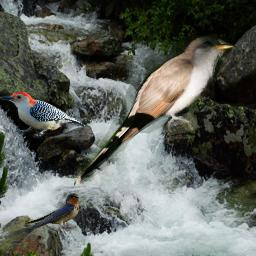Cuckoo: (74, 36, 237, 186)
Swallow: (15, 192, 82, 231)
Woodpecker: (0, 92, 84, 138)
